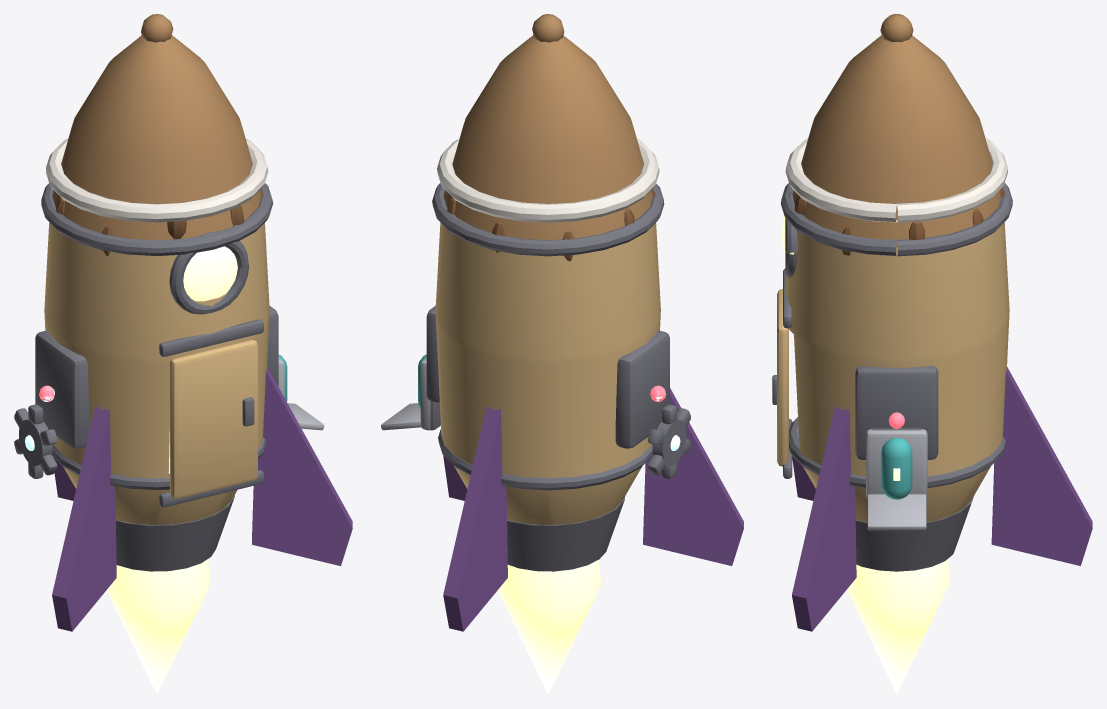
The model's file is SPY_Rocket_HauntedBakery.fbx.
The picture shows the model from 3 angles, left to right: view 1: azimuth 30°, elevation 25°; view 2: azimuth 150°, elevation 25°; view 3: azimuth 270°, elevation 25°; orthographic projection.
Visible parts, largest first — view 1: Body, Hatch, Flame, SpinGear; view 2: Body, Flame, SpinGear, Slot_01_Empty, Slot_01_Filled; view 3: Body, Flame, Slot_01_Filled, Slot_01_Empty, Hatch.
Part boxes in pixels (x1,y1,x2,y2): Body: [35, 14, 352, 631]; Hatch: [170, 340, 257, 498]; Flame: [106, 559, 209, 694]; SpinGear: [14, 404, 57, 478]; Body: [426, 14, 743, 631]; Flame: [498, 560, 600, 694]; SpinGear: [648, 404, 690, 478]; Slot_01_Empty: [381, 401, 440, 430]; Slot_01_Filled: [418, 354, 430, 430]; Body: [780, 14, 1092, 631]; Flame: [847, 559, 950, 694]; Slot_01_Filled: [866, 429, 927, 499]; Slot_01_Empty: [867, 412, 926, 530]; Hatch: [772, 289, 788, 466].
Size of the model in its own units: 2.96 by 6.32 by 2.7.
